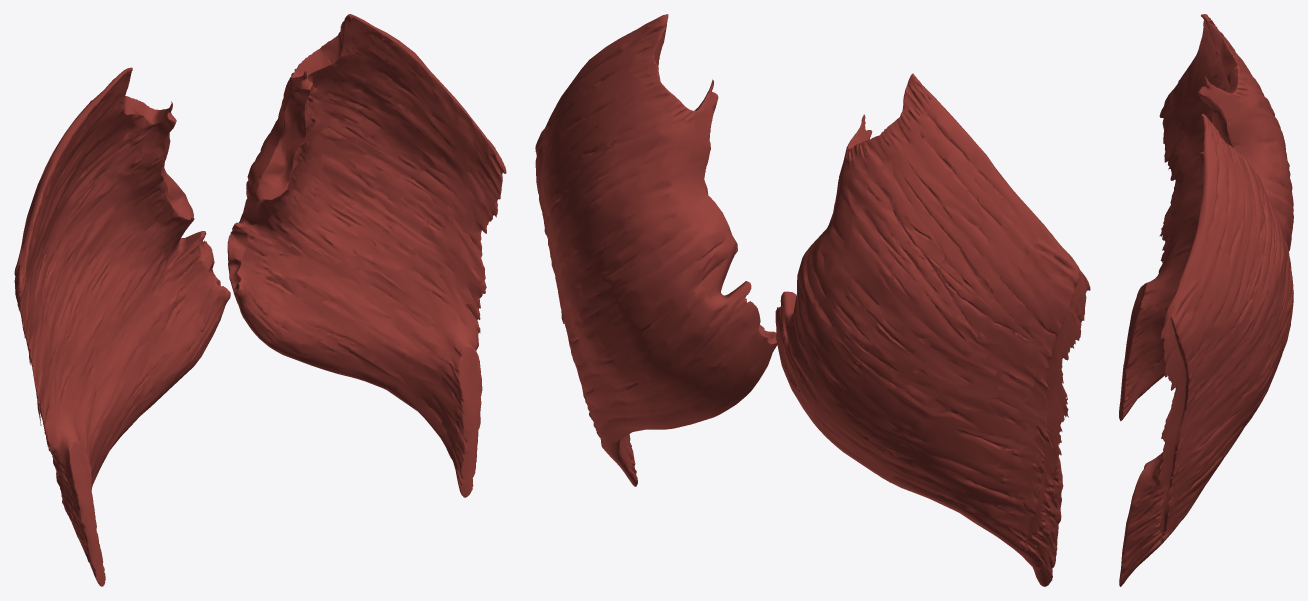
Rendered from explorar-gluteus_maximus.glb.
The picture shows the model from 3 angles, left to right: view 1: azimuth 30°, elevation 25°; view 2: azimuth 150°, elevation 25°; view 3: azimuth 270°, elevation 25°; orthographic projection. The views are drawn at different scales.
Visible parts, largest first — view 1: gluteus_maximus__superior_izquierdo, gluteus_maximus__inferior_izquierdo, gluteus_maximus__superior_derecho, gluteus_maximus__inferior_derecho; view 2: gluteus_maximus__superior_derecho, gluteus_maximus__superior_izquierdo, gluteus_maximus__inferior_derecho, gluteus_maximus__inferior_izquierdo; view 3: gluteus_maximus__superior_izquierdo, gluteus_maximus__inferior_izquierdo, gluteus_maximus__superior_derecho, gluteus_maximus__inferior_derecho.
Part boxes in pixels (<box>): gluteus_maximus__superior_izquierdo: <box>227,14,506,259</box>; gluteus_maximus__inferior_izquierdo: <box>228,223,486,497</box>; gluteus_maximus__superior_derecho: <box>14,67,214,343</box>; gluteus_maximus__inferior_derecho: <box>27,262,230,586</box>; gluteus_maximus__superior_derecho: <box>775,73,1090,381</box>; gluteus_maximus__superior_izquierdo: <box>535,14,760,333</box>; gluteus_maximus__inferior_derecho: <box>776,327,1068,586</box>; gluteus_maximus__inferior_izquierdo: <box>548,242,777,486</box>; gluteus_maximus__superior_izquierdo: <box>1159,114,1293,392</box>; gluteus_maximus__inferior_izquierdo: <box>1119,325,1290,586</box>; gluteus_maximus__superior_derecho: <box>1159,14,1293,248</box>; gluteus_maximus__inferior_derecho: <box>1119,178,1290,421</box>.
Size of the model in its own units: 0.284 by 0.2611 by 0.094.
